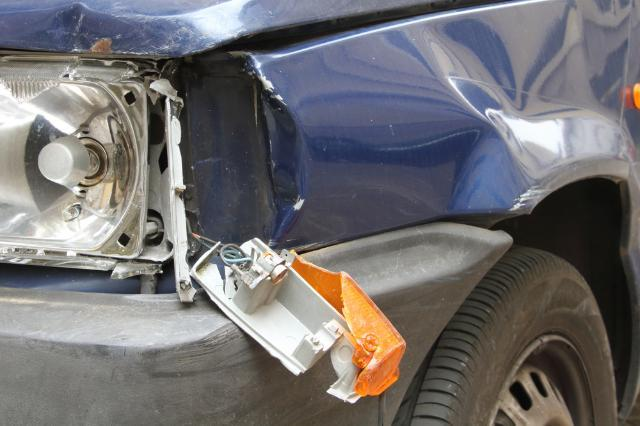dent: (340, 18, 600, 209), (13, 2, 162, 51)
dislocated part: (189, 51, 402, 406)
lamp broken: (0, 53, 196, 272)
